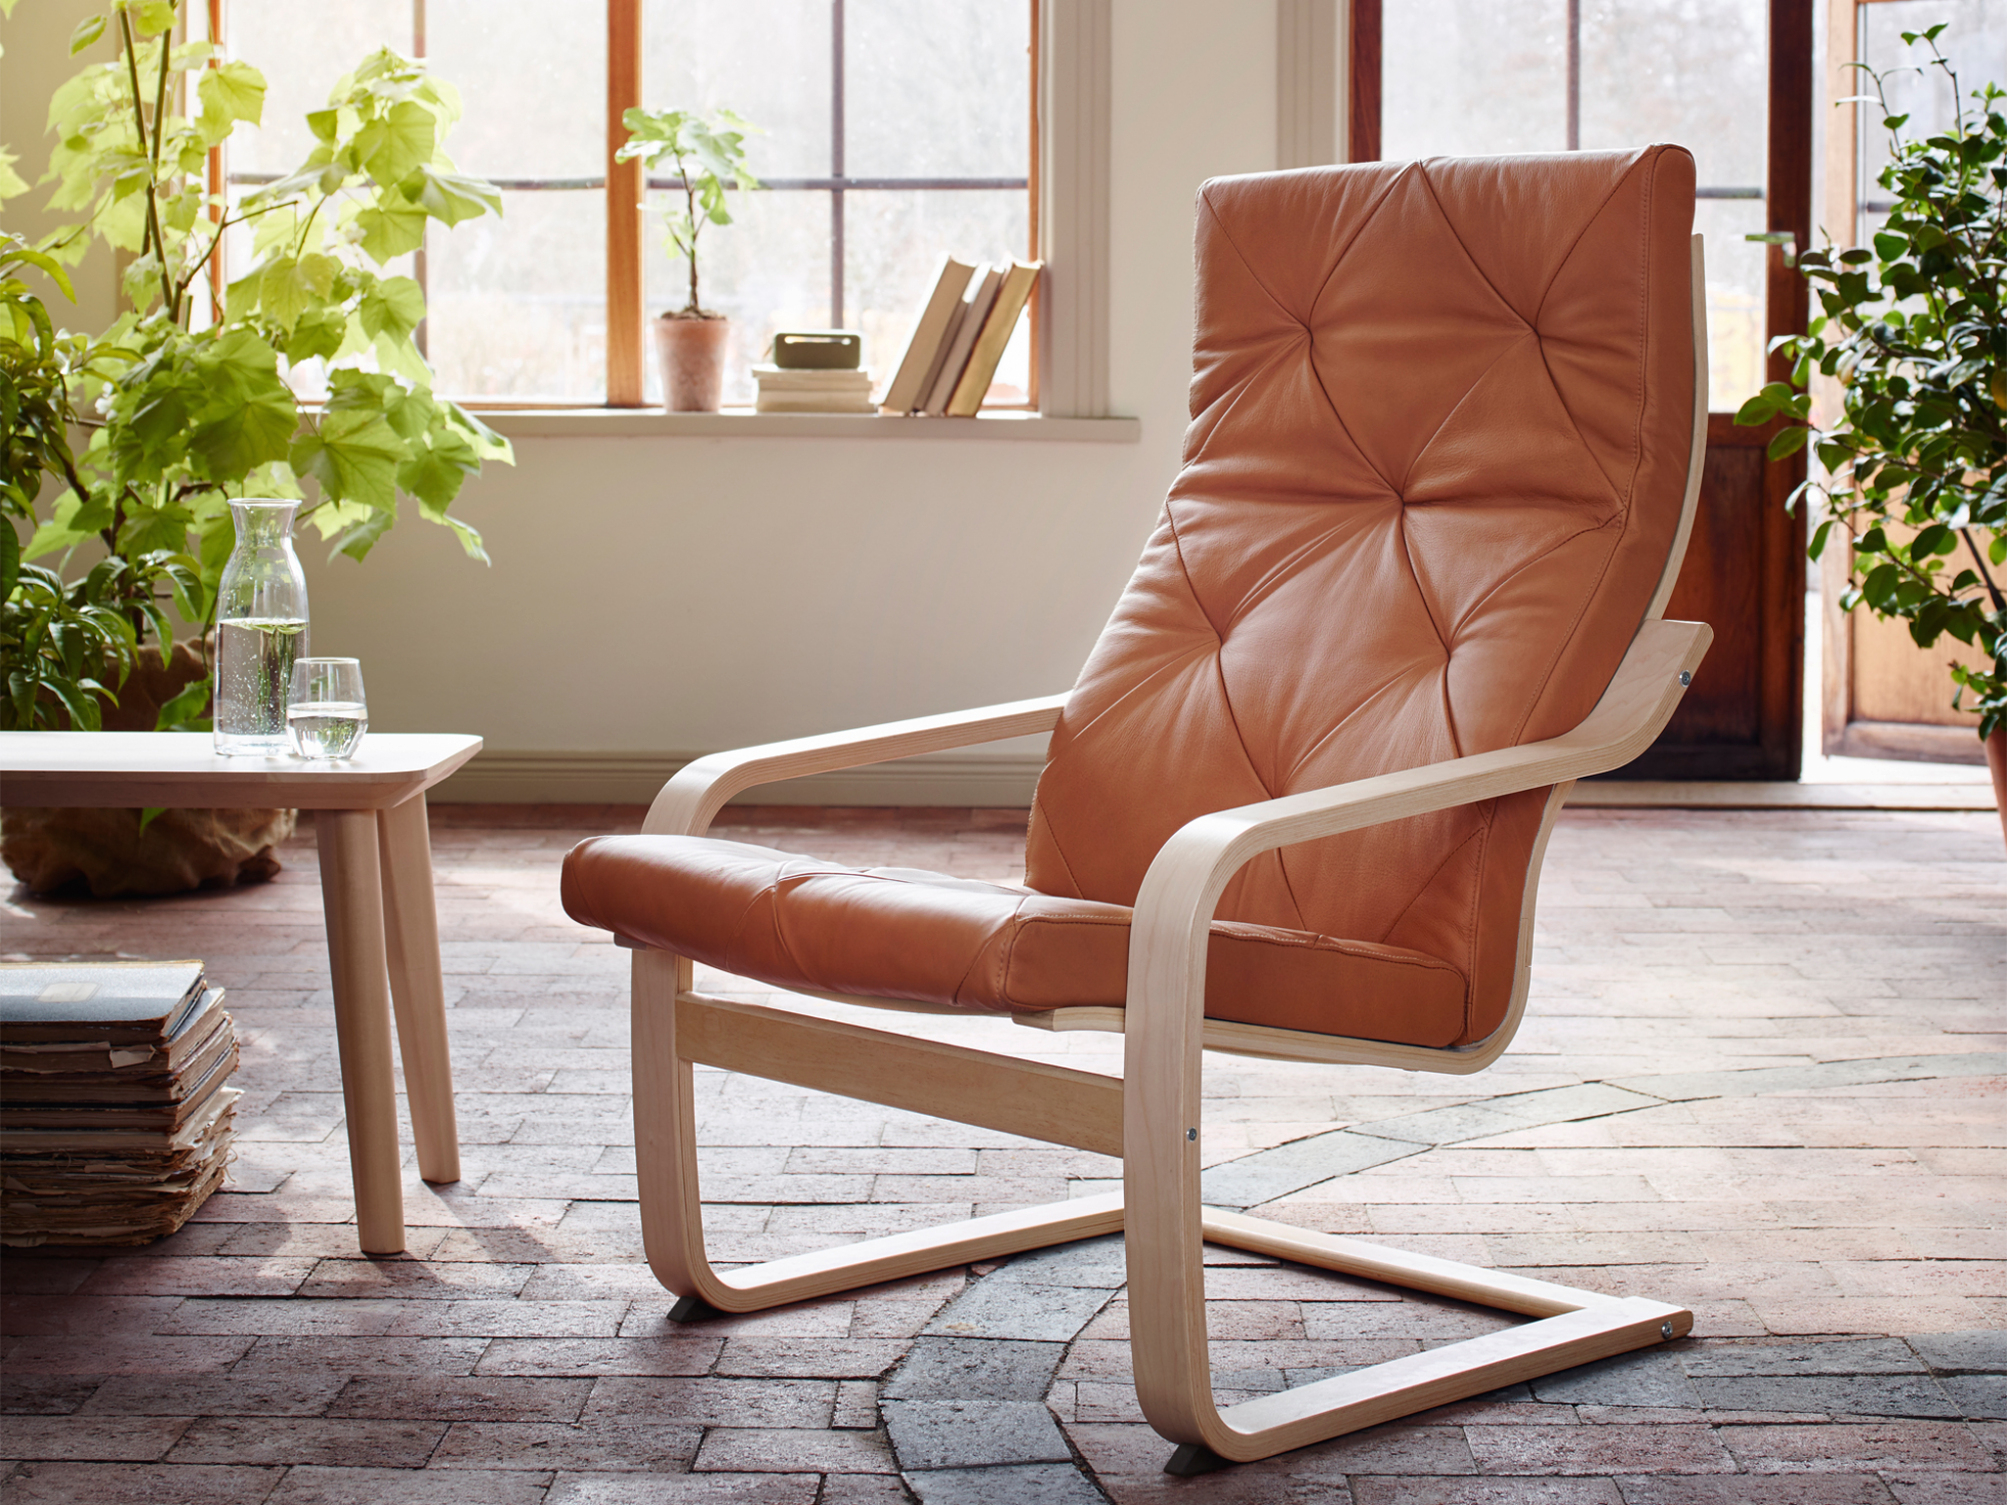chairs: (589, 142, 1718, 1467)
